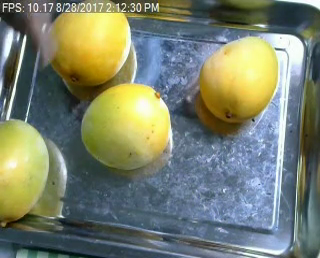Mango: (80, 83, 173, 167), (45, 1, 131, 83), (200, 38, 280, 124), (0, 116, 49, 223)
